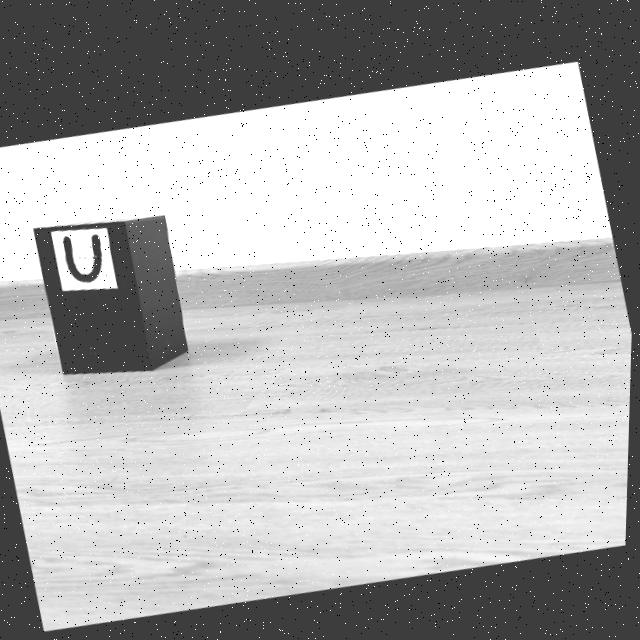U: (64, 232, 104, 281)
